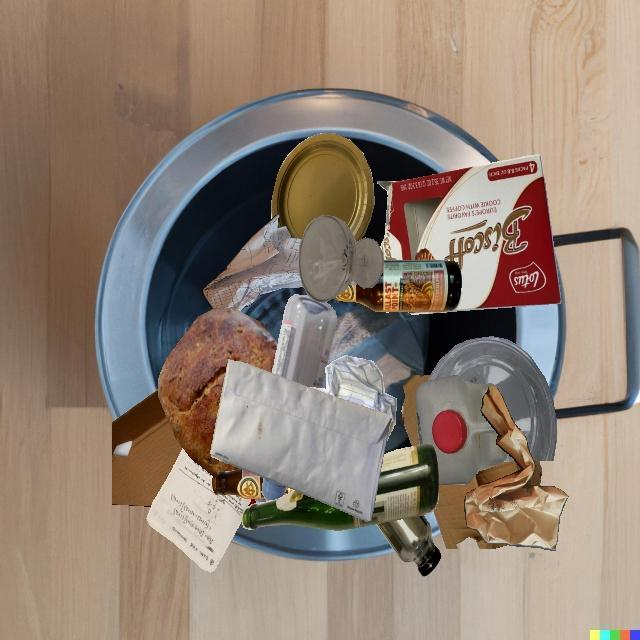biowaste: (158, 307, 278, 476)
cardboard: (377, 154, 561, 314), (428, 378, 534, 540), (112, 389, 183, 506)
glass: (241, 443, 439, 531), (299, 215, 384, 302), (333, 261, 462, 312), (375, 515, 441, 577), (212, 469, 266, 499)
paper: (210, 360, 391, 521), (464, 386, 568, 551), (147, 448, 251, 572), (271, 133, 374, 242), (202, 215, 303, 312), (310, 355, 397, 443)
plastic: (428, 336, 557, 461), (415, 375, 507, 485), (419, 381, 513, 458), (272, 295, 337, 388)
